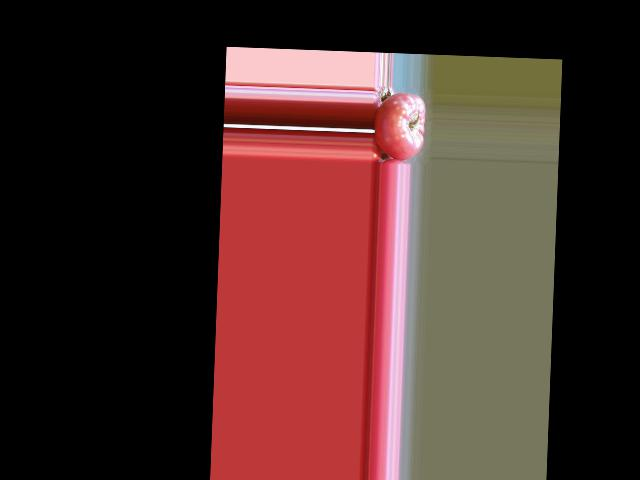tomato: (373, 91, 426, 162)
